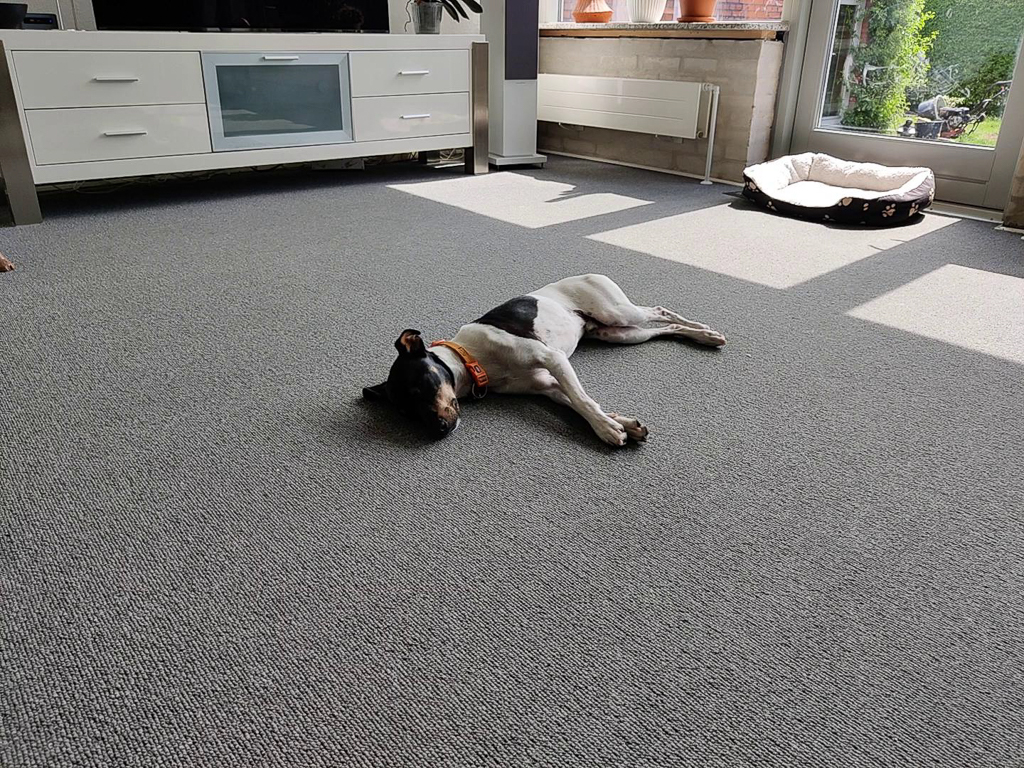Dog: (331, 257, 746, 474)
Humanoid: (890, 113, 922, 145), (570, 0, 614, 15)
